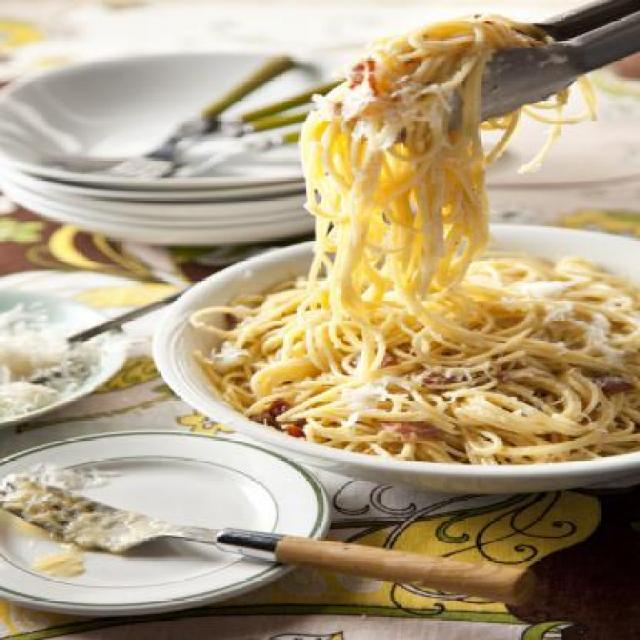Pasta with carbonara sauce: (150, 26, 639, 508)
